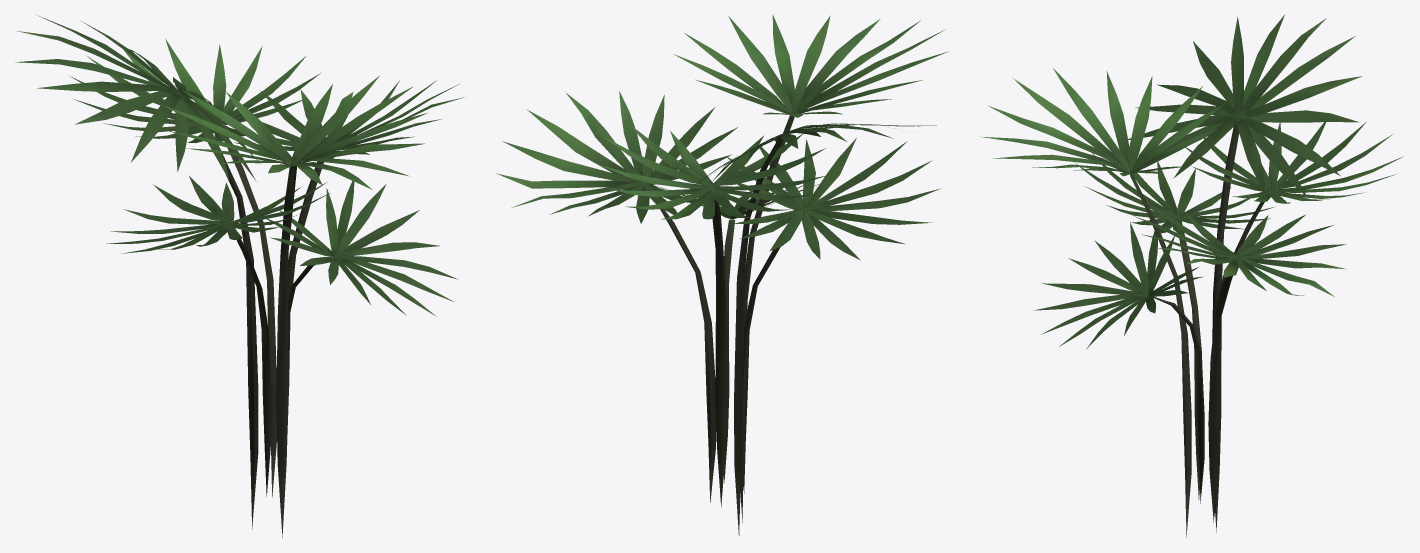
Rendered from plants-trees-palms-fan-palm_v3.fbx.
3 renders of one model, left to right at view 1: azimuth 30°, elevation 25°; view 2: azimuth 150°, elevation 25°; view 3: azimuth 270°, elevation 25°, orthographic. The views are drawn at different scales.
Parts seen in each view (by area): view 1: Fan Palm_v3; view 2: Fan Palm_v3; view 3: Fan Palm_v3.
Boxes of the visible parts, bbox=[...] form: Fan Palm_v3: bbox=[15, 14, 463, 538]; Fan Palm_v3: bbox=[496, 14, 948, 535]; Fan Palm_v3: bbox=[980, 15, 1403, 537].
Bounding box in the file's own units: 1.33 × 1.5 × 1.32.
